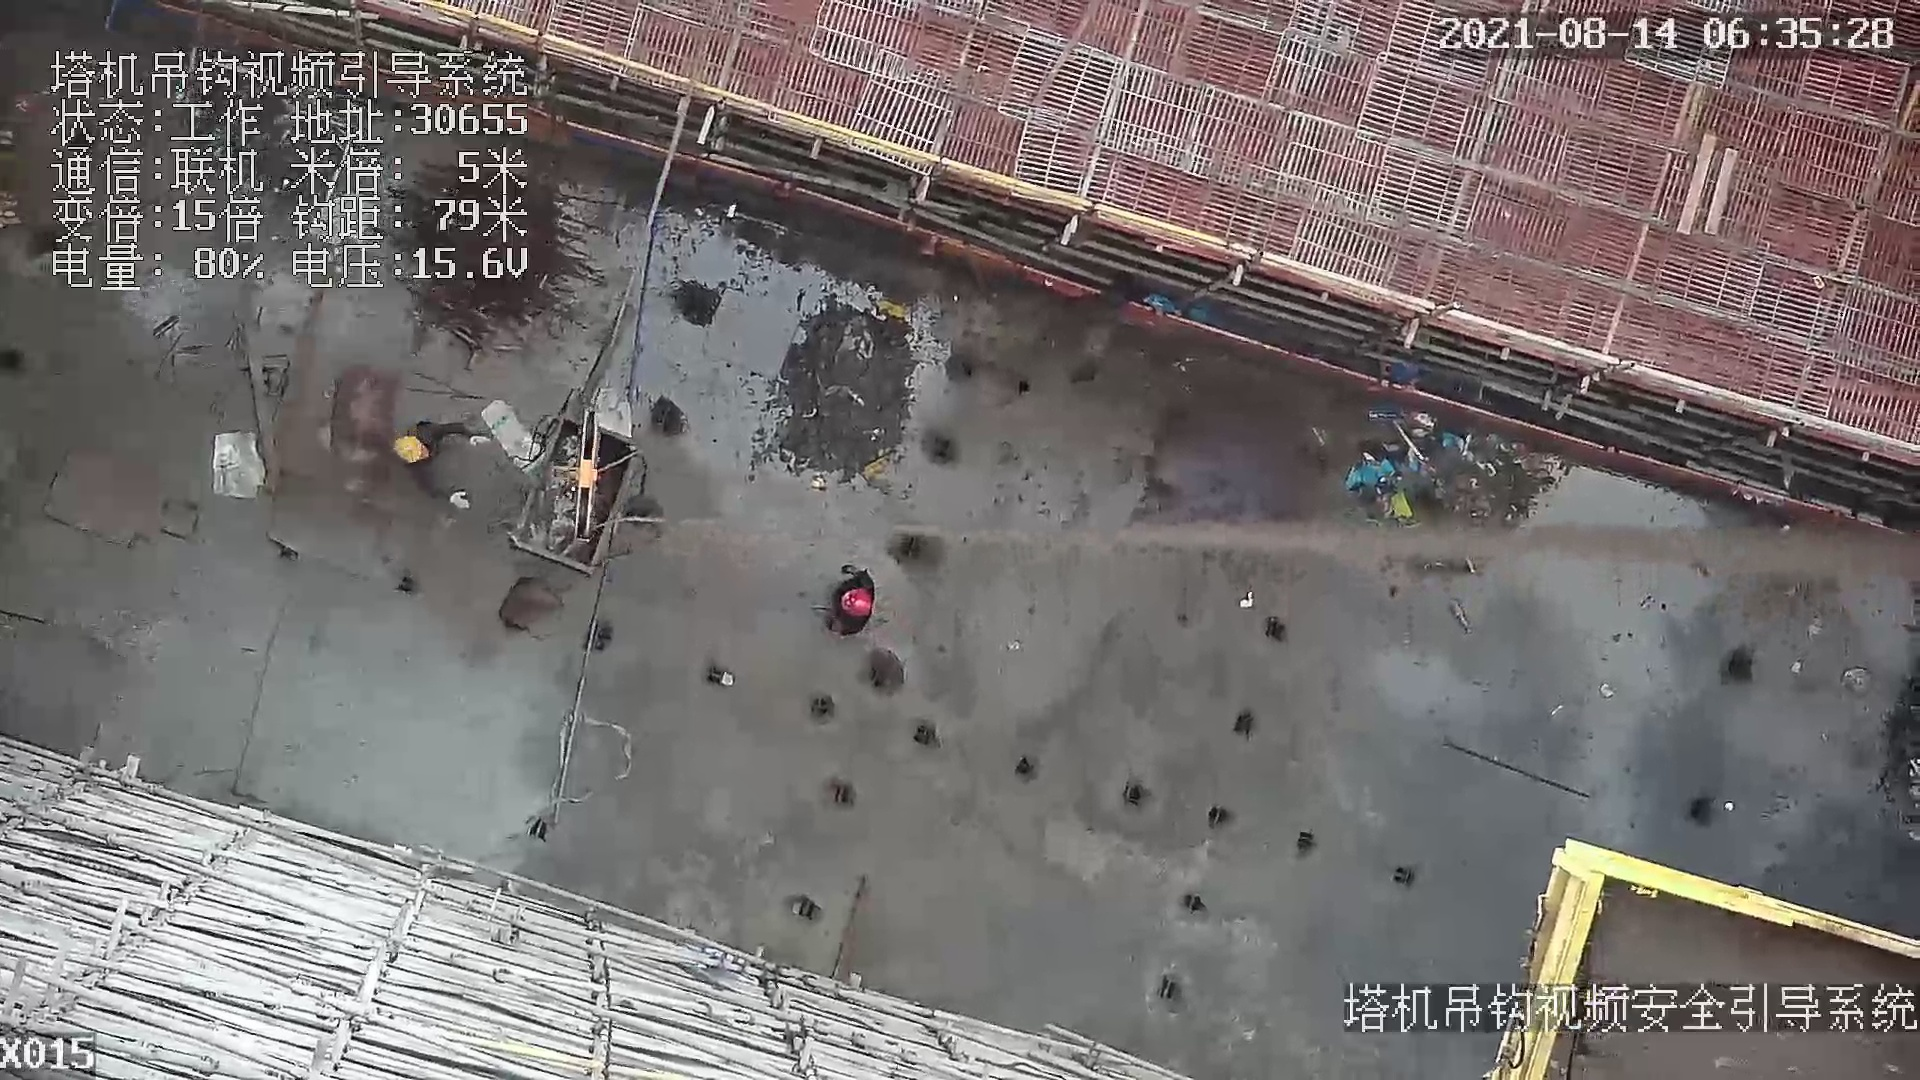helmet: (840, 587, 874, 622), (394, 431, 427, 467)
hook: (559, 408, 603, 533)
hopper: (506, 410, 649, 581)
person: (390, 410, 494, 515), (810, 554, 881, 640)
